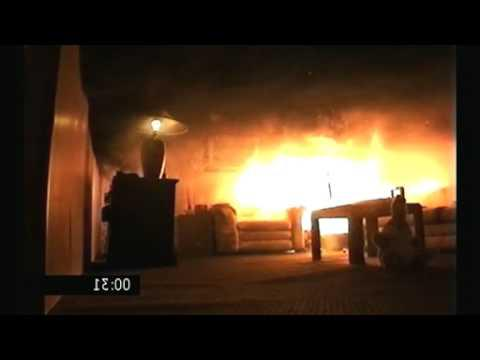fire: (215, 124, 450, 250)
